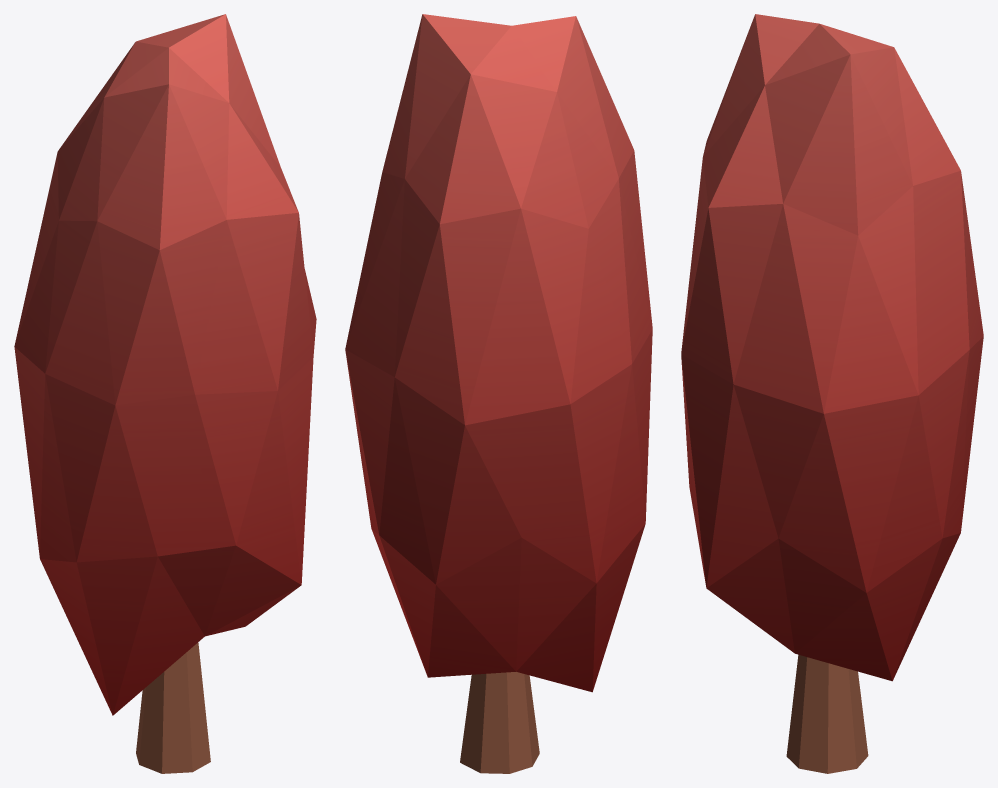
Rendered from Tree_05_gradient_red.fbx.
3 renders of one model, left to right at view 1: azimuth 30°, elevation 25°; view 2: azimuth 150°, elevation 25°; view 3: azimuth 270°, elevation 25°, orthographic. The views are drawn at different scales.
Visible parts, largest first — view 1: Tree_05_gradient_red; view 2: Tree_05_gradient_red; view 3: Tree_05_gradient_red.
Boxes of the visible parts, x1,y1,x2,y2 form: Tree_05_gradient_red: (14, 14, 316, 773); Tree_05_gradient_red: (345, 14, 652, 773); Tree_05_gradient_red: (681, 14, 983, 773).
Bounding box in the file's own units: 104 × 266 × 99.25.
